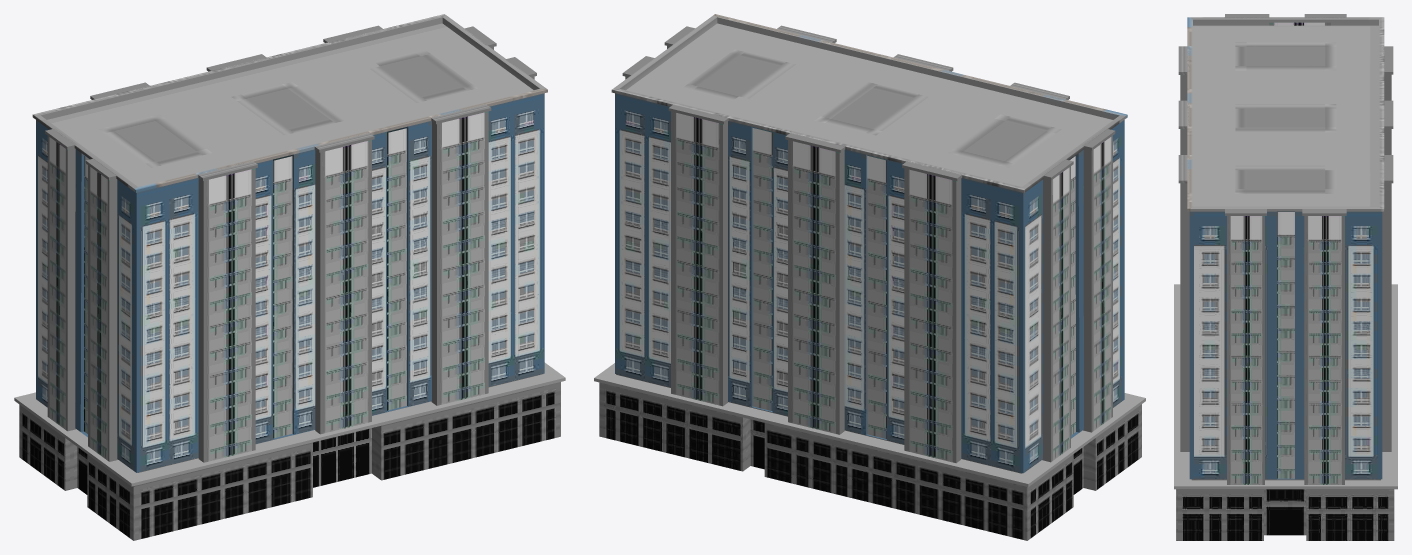
3 renders of one model, left to right at view 1: azimuth 30°, elevation 25°; view 2: azimuth 150°, elevation 25°; view 3: azimuth 270°, elevation 25°, orthographic. The views are drawn at different scales.
Parts seen in each view (by area): view 1: 5b222721cd18d02d045a6068.001; view 2: 5b222721cd18d02d045a6068.001; view 3: 5b222721cd18d02d045a6068.001.
Part boxes in pixels (x1,y1,x2,y2): 5b222721cd18d02d045a6068.001: (14, 14, 565, 540); 5b222721cd18d02d045a6068.001: (594, 14, 1145, 540); 5b222721cd18d02d045a6068.001: (1174, 14, 1397, 540).
Size of the model in its own units: 74.48 by 56.5 by 34.91.
1 material, 1 textured.
